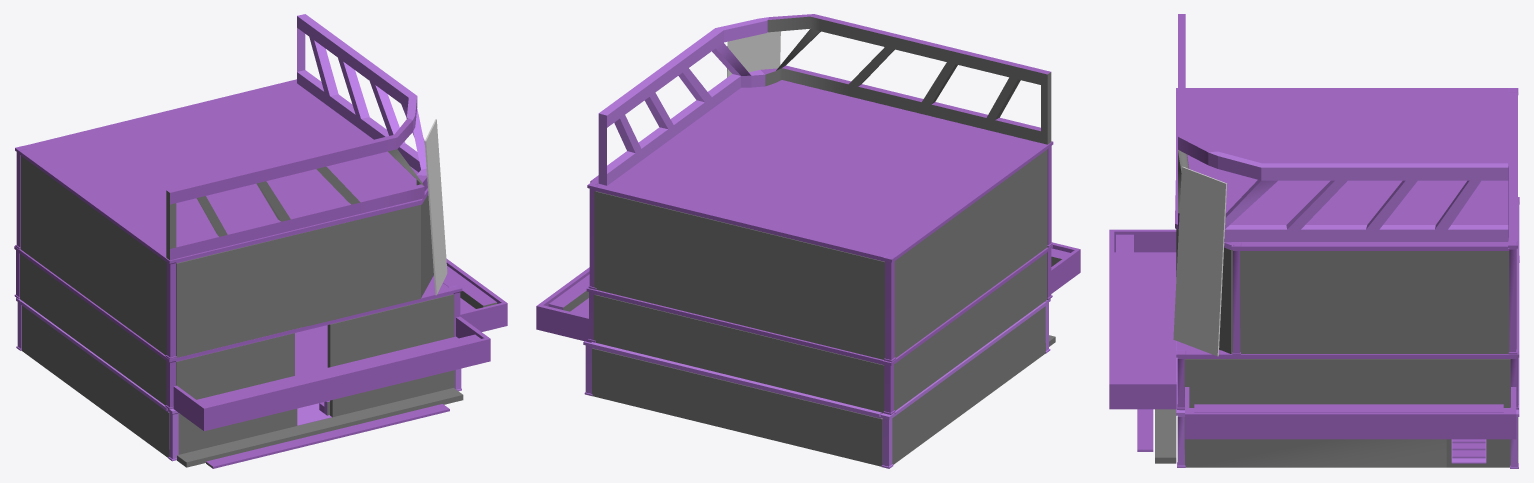
Rendered from Building 1.fbx.
The picture shows the model from 3 angles, left to right: view 1: azimuth 30°, elevation 25°; view 2: azimuth 150°, elevation 25°; view 3: azimuth 270°, elevation 25°; orthographic projection. The views are drawn at different scales.
Parts seen in each view (by area): view 1: Building1, Billboard1; view 2: Building1, Billboard1; view 3: Building1, Billboard1.
Part boxes in pixels (bbox=[...]): Building1: bbox=[14, 14, 507, 468]; Billboard1: bbox=[424, 119, 447, 295]; Building1: bbox=[536, 14, 1080, 468]; Billboard1: bbox=[727, 31, 780, 77]; Building1: bbox=[1109, 14, 1519, 468]; Billboard1: bbox=[1173, 166, 1227, 356].
Bounding box in the file's own units: 20.35 × 15.27 × 19.14.
